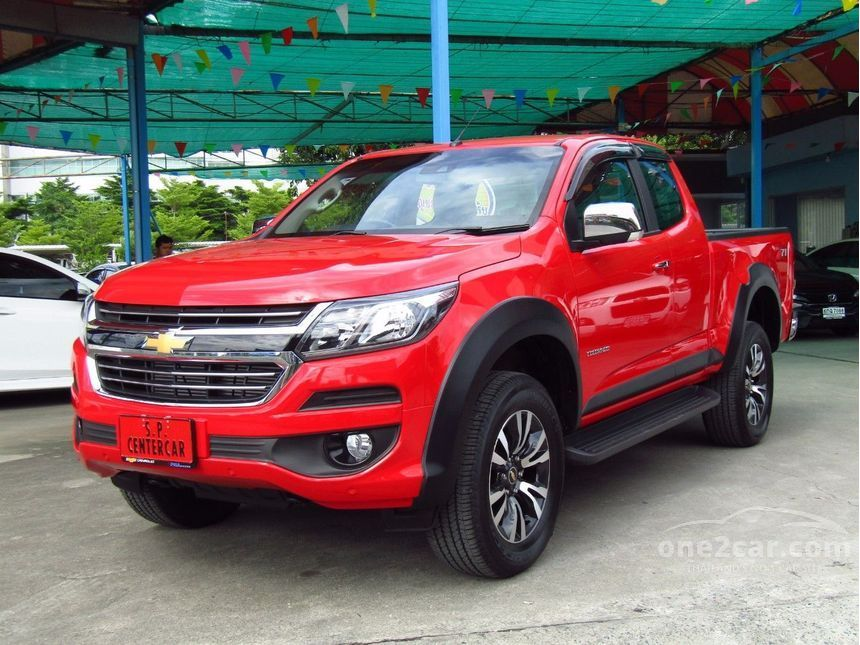pickup: (71, 134, 795, 582)
